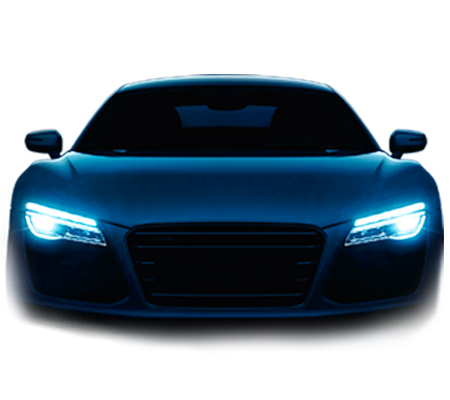car: (1, 69, 449, 322)
